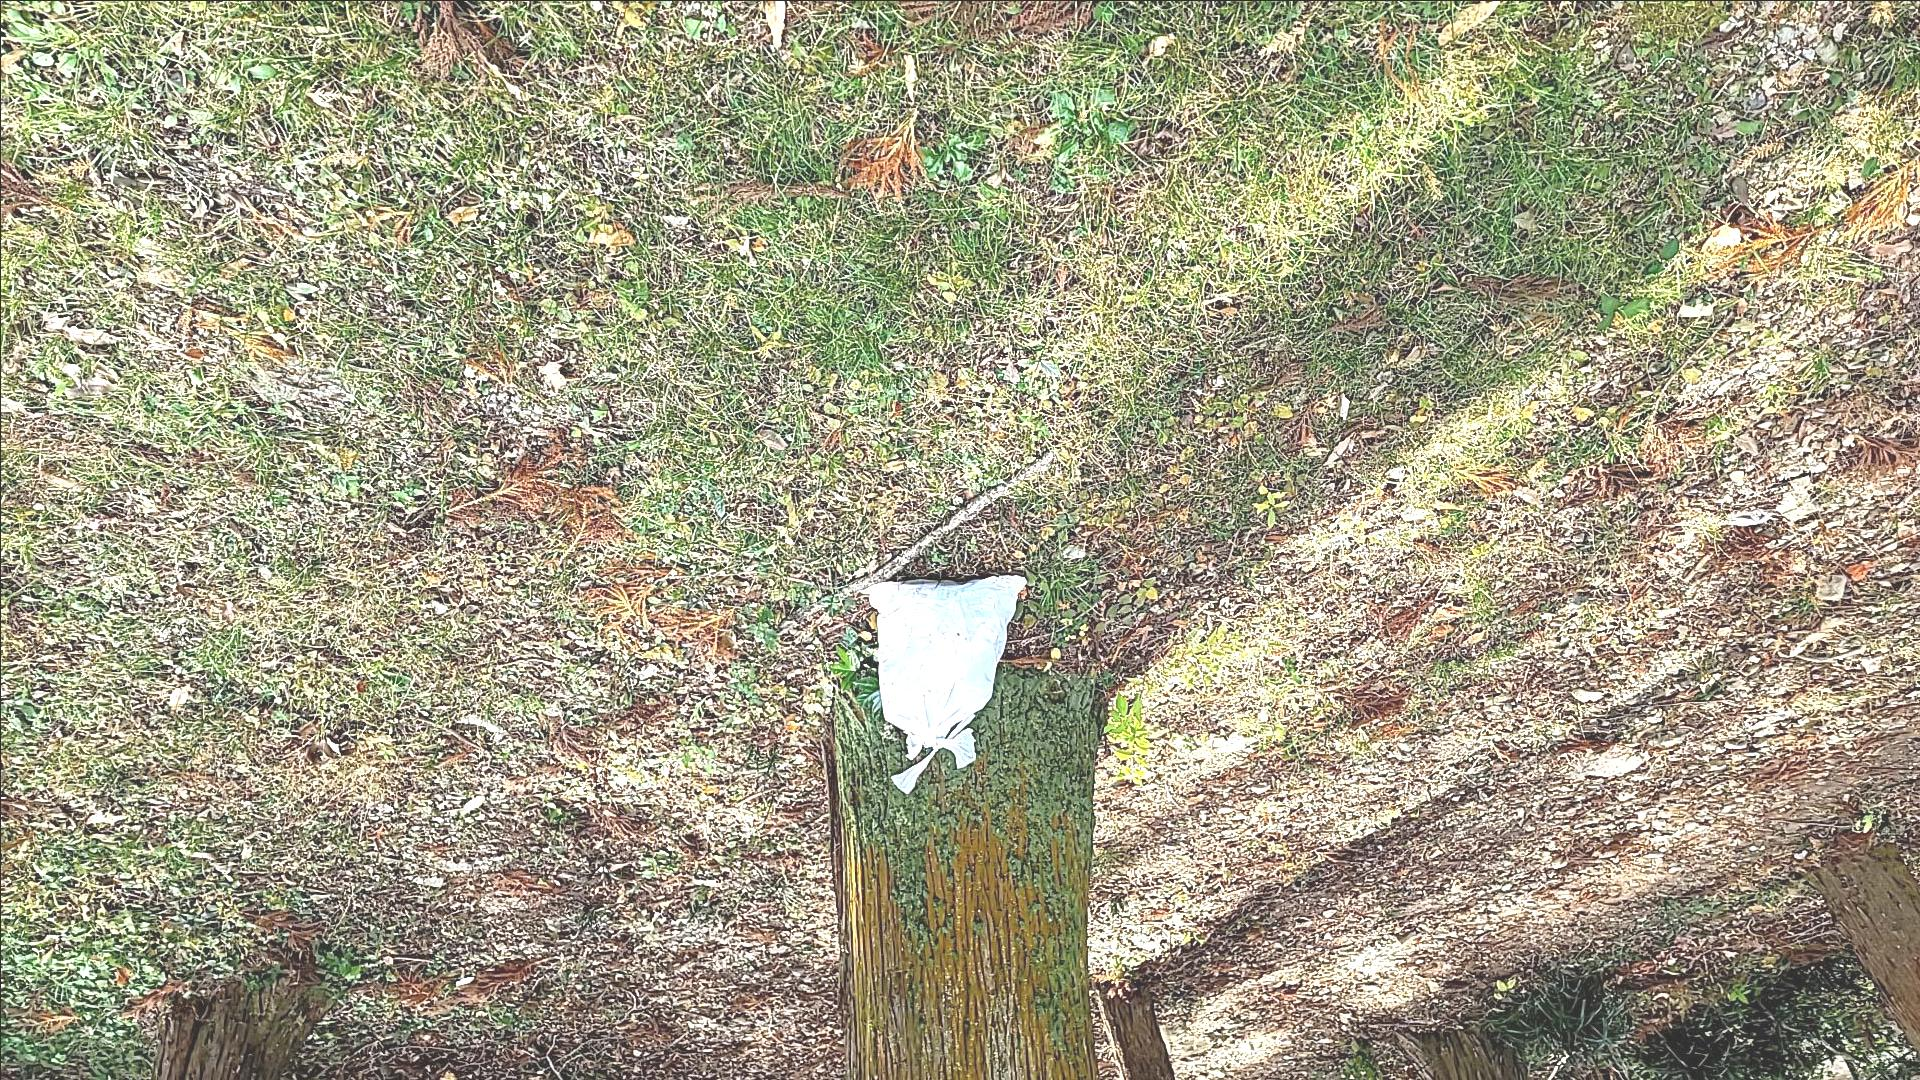white_bag: (851, 567, 1035, 804)
